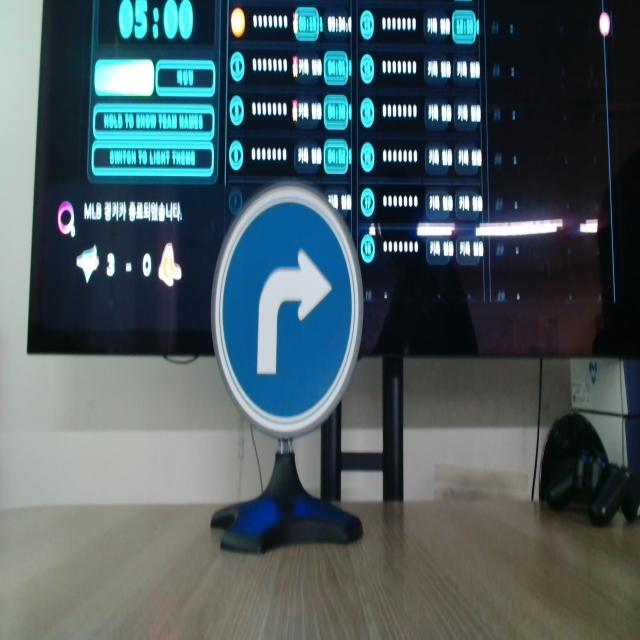right_dierection: (210, 178, 362, 433)
